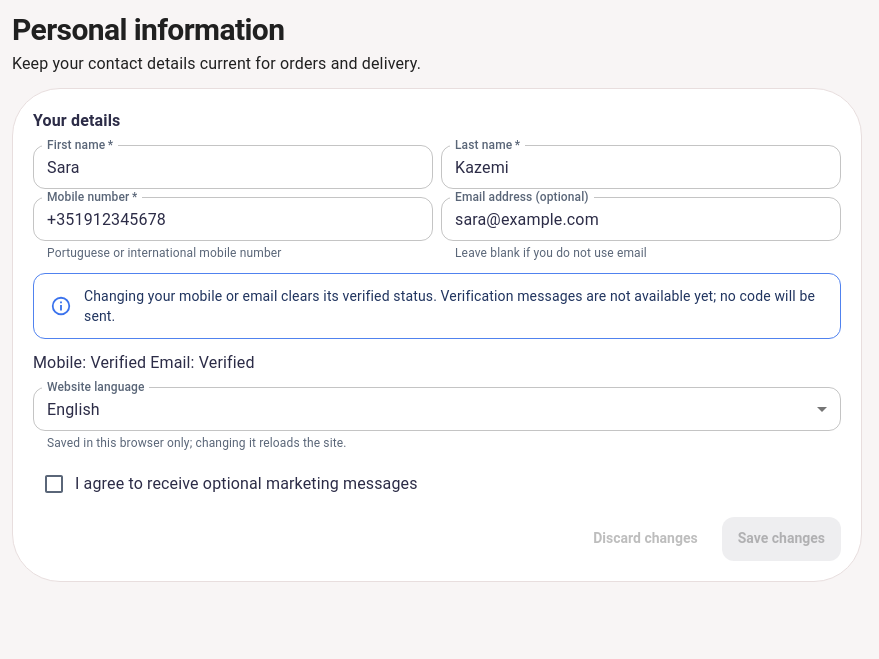
Scenario: customer information form › sends normalized contact and consent values and displays the unverified transition
This screenshot has width=879, height=659.
Step 1. Replace the text in the field labelled "Mobile number *" with "923456789" → (233,219), box [33, 199, 433, 239]
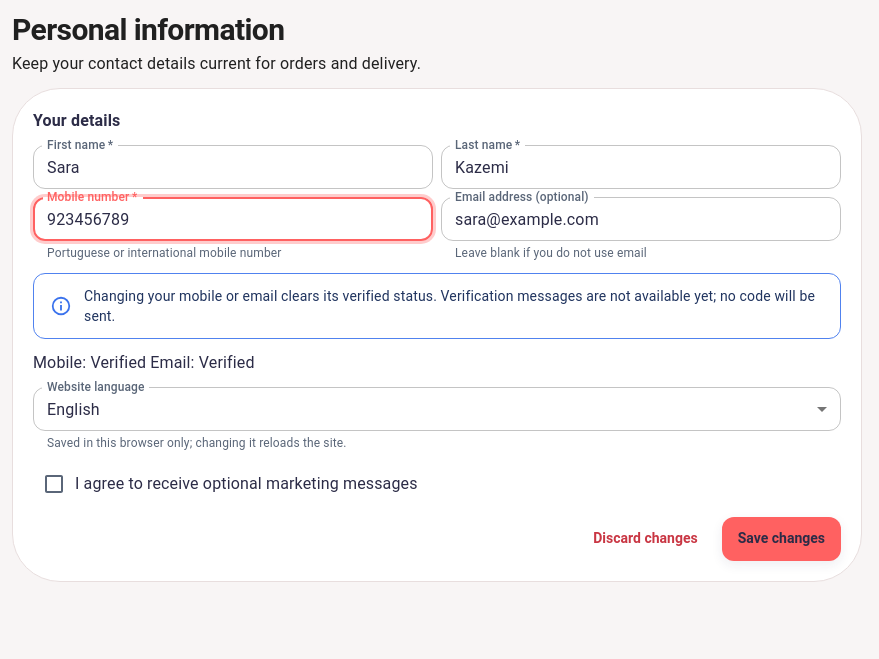
Step 2. Click the checkbox labelled "I agree to receive optional marketing messages" → (230,484), box [42, 472, 418, 496]
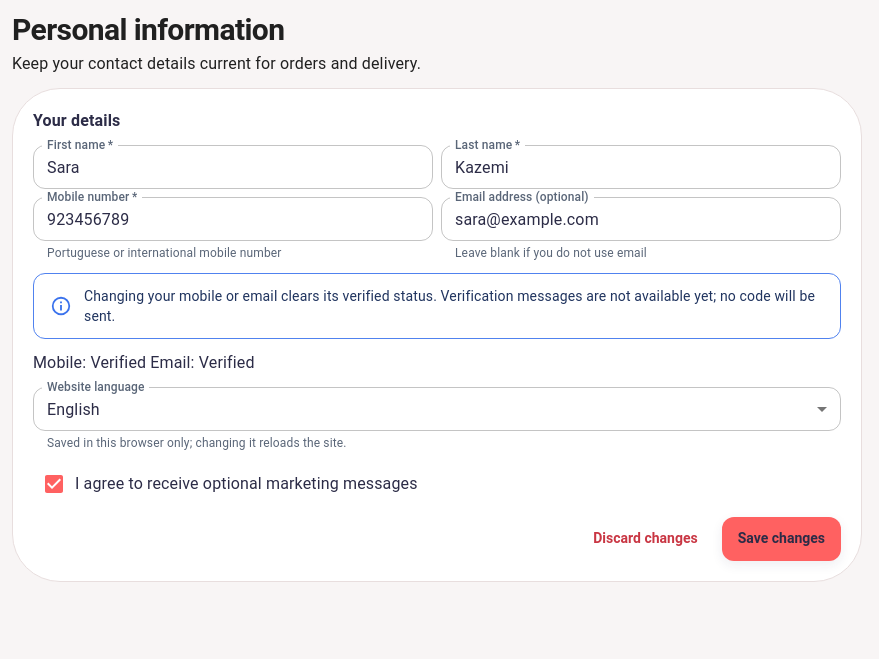
Step 3. Click the button "Save changes" → (781,539), box [722, 517, 841, 561]
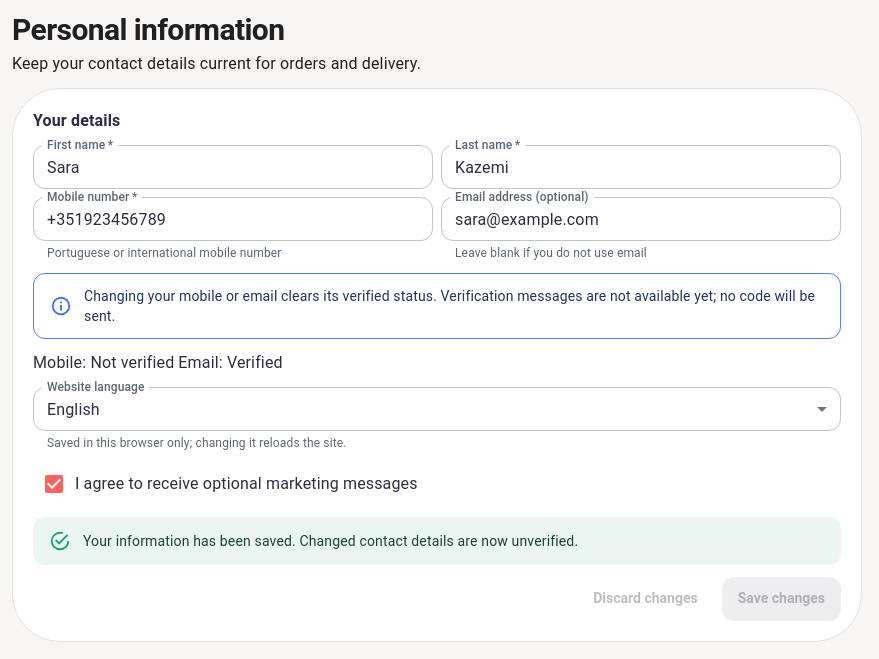
Expected: the text "Email: Verified" is shown, [178, 351, 283, 375]
Now the text "Changed contact details are now unverified" is shown, box [83, 533, 578, 549]
Now the text "Mobile: Not verified" is shown, box [33, 351, 174, 375]
